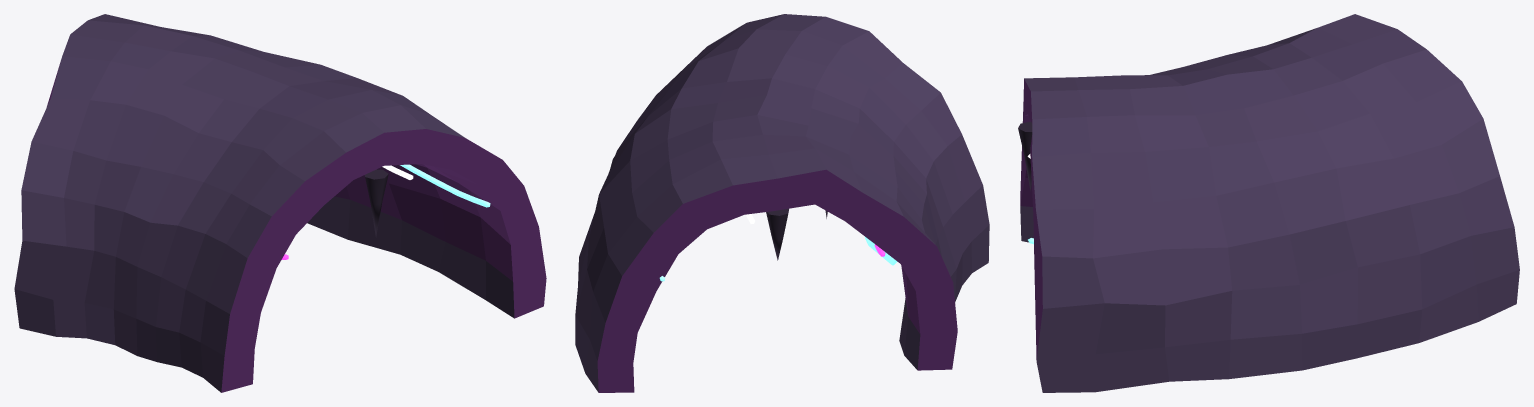
Rendered from W4_CaveTunnel_Curve45.fbx.
3 renders of one model, left to right at view 1: azimuth 30°, elevation 25°; view 2: azimuth 150°, elevation 25°; view 3: azimuth 270°, elevation 25°, orthographic. The views are drawn at different scales.
Parts seen in each view (by area): view 1: W4_CaveTunnel_Curve45; view 2: W4_CaveTunnel_Curve45; view 3: W4_CaveTunnel_Curve45.
Boxes of the visible parts, x1,y1,x2,y2 form: W4_CaveTunnel_Curve45: (14,14,546,392); W4_CaveTunnel_Curve45: (575,14,989,392); W4_CaveTunnel_Curve45: (1018,14,1519,392).
Size of the model in its own units: 19.06 by 9.79 by 19.62.
